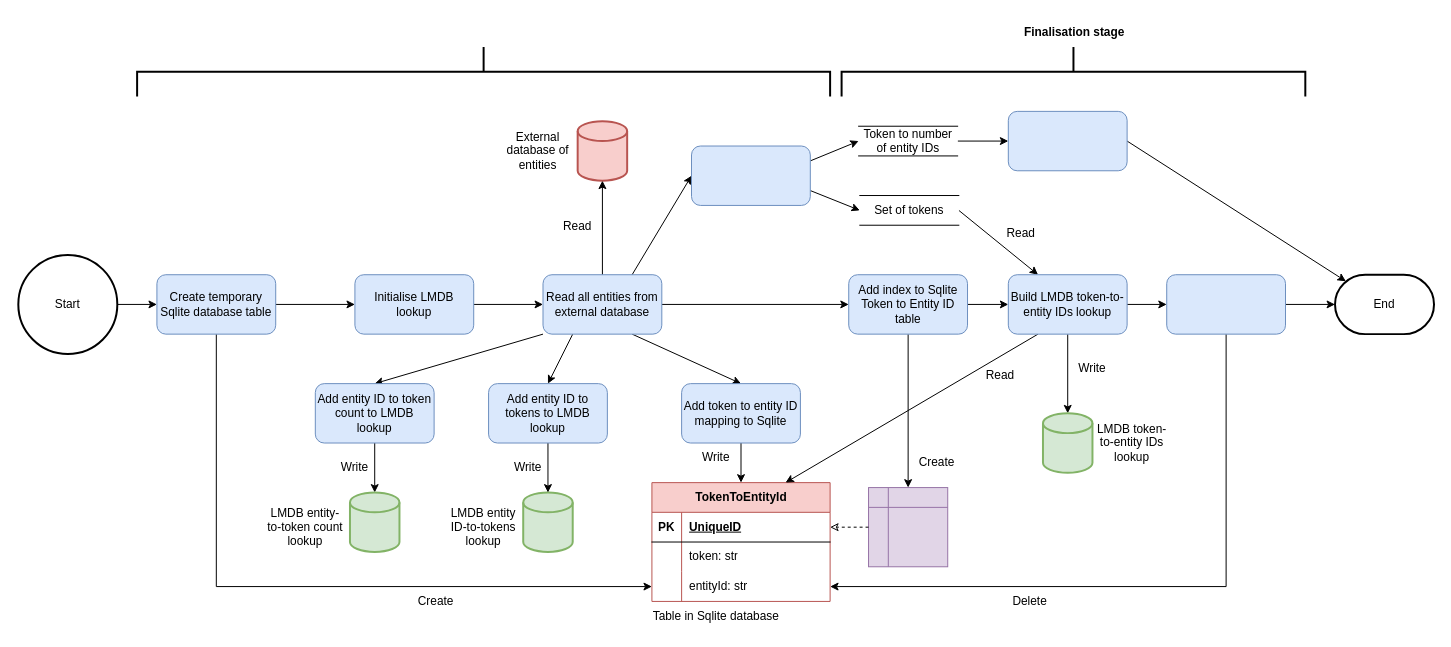
Image size: 1451x647. Some labels were removed from this diagram. Each missing label, with the centre of its shape:
Delete temporary Sqlite database: [1226,304]
Index: [908,527]
Initial load stage: [483,71]
Store token and entity IDs in memory: [750,175]
Write token to entity ID count to file in Pickle format: [1067,140]
